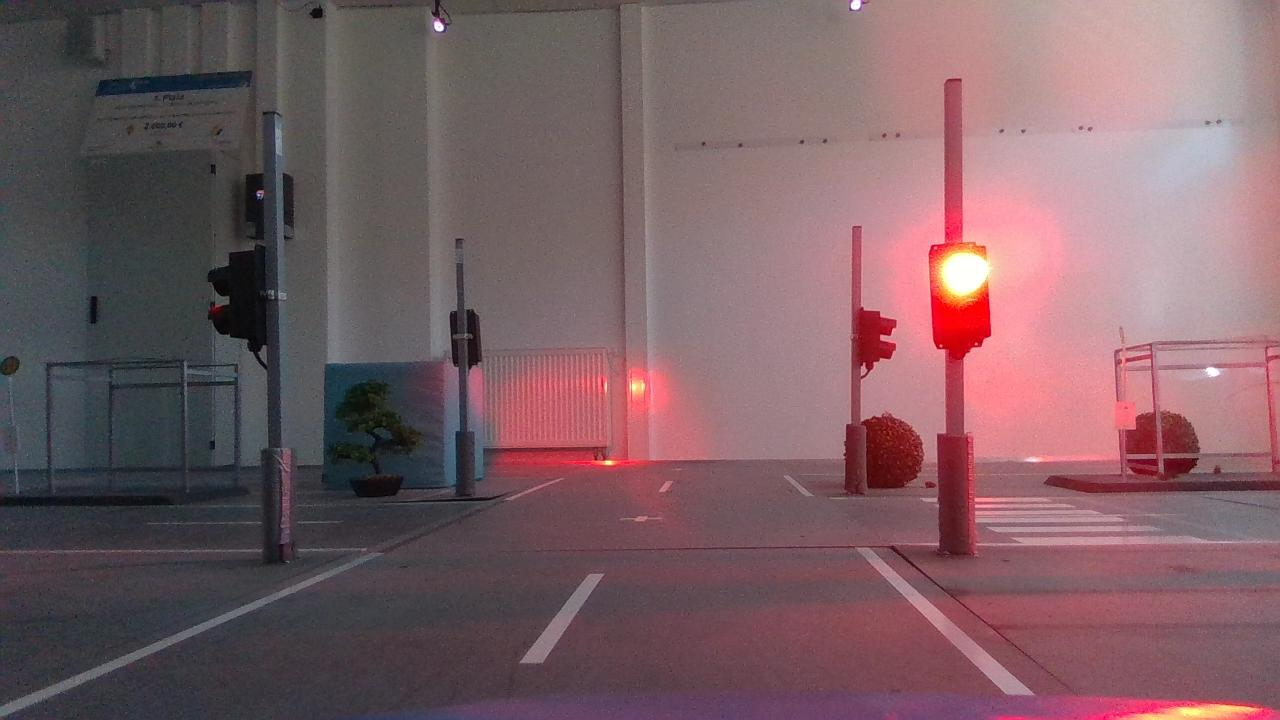traffic_light_red: (919, 238, 1006, 361)
